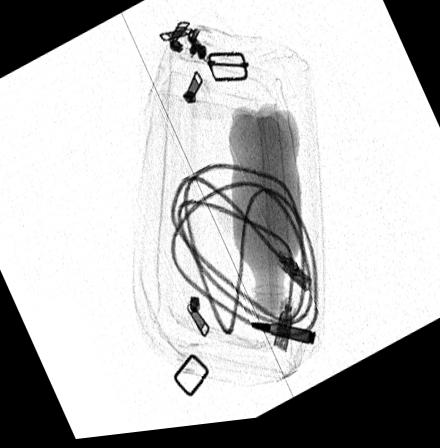Bullet: (247, 327, 316, 353)
